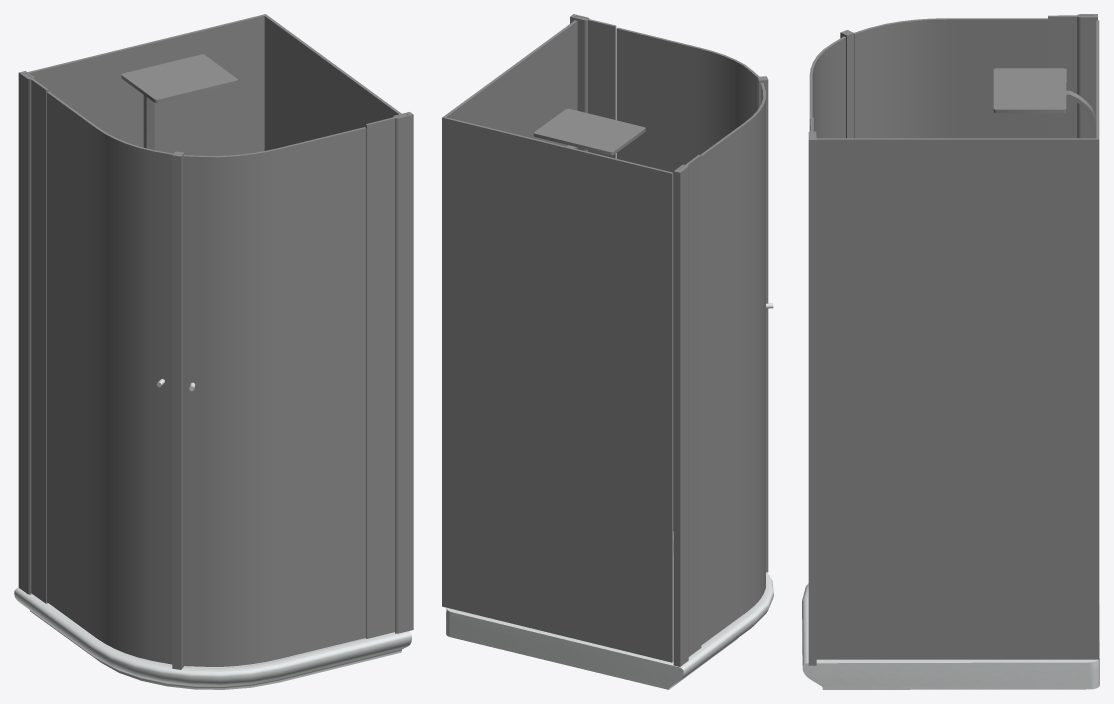
The model's file is Shower.FBX.
3 renders of one model, left to right at view 1: azimuth 30°, elevation 25°; view 2: azimuth 150°, elevation 25°; view 3: azimuth 270°, elevation 25°, orthographic. The views are drawn at different scales.
Visible parts, largest first — view 1: Shower; view 2: Shower; view 3: Shower.
Boxes of the visible parts, x1,y1,x2,y2 form: Shower: (14, 14, 413, 689); Shower: (442, 14, 773, 689); Shower: (802, 14, 1099, 689).
Size of the model in its own units: 49.14 by 98.94 by 48.35.
